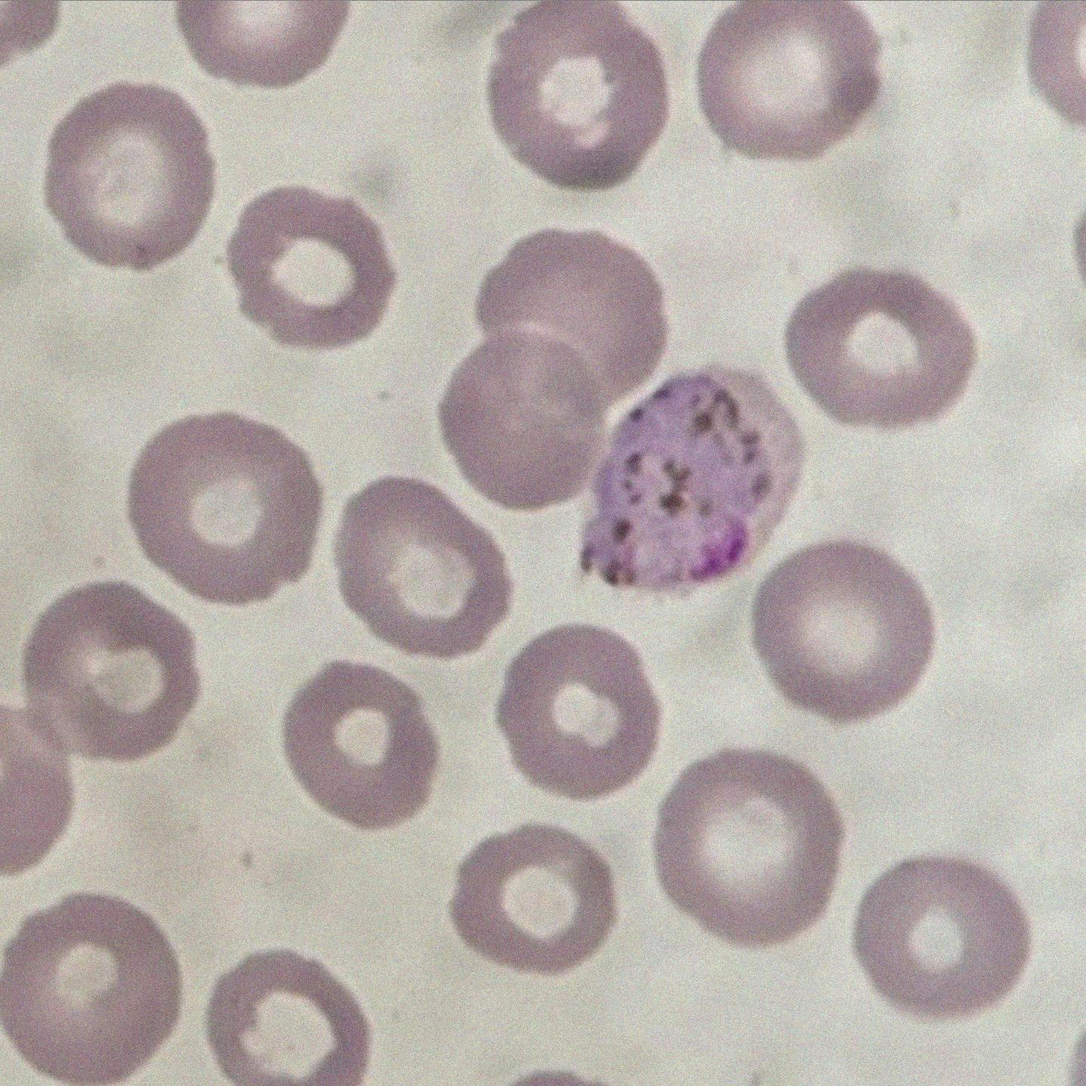Infected: (578, 368, 808, 593)
Uninfected: (653, 750, 844, 947), (131, 418, 323, 611), (2, 891, 185, 1084), (487, 4, 671, 190), (23, 578, 204, 763), (750, 541, 934, 719), (44, 81, 218, 268), (334, 478, 515, 657), (437, 330, 615, 511), (783, 267, 980, 429), (474, 229, 666, 394), (851, 857, 1033, 1020), (697, 2, 884, 160), (496, 624, 662, 799), (225, 185, 397, 349), (281, 661, 442, 831), (451, 823, 616, 975), (207, 951, 369, 1086)
